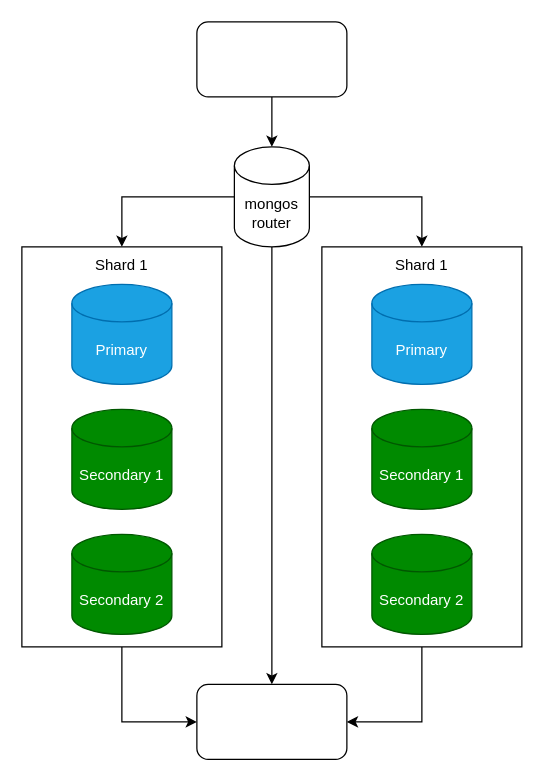
This 544x781 diagram has some shape labels left out. The box of each missing label's shape, as (x1, y1, x2, y2) in pixels:
config server: (196, 683, 347, 759)
pymongo-api: (196, 21, 347, 97)
